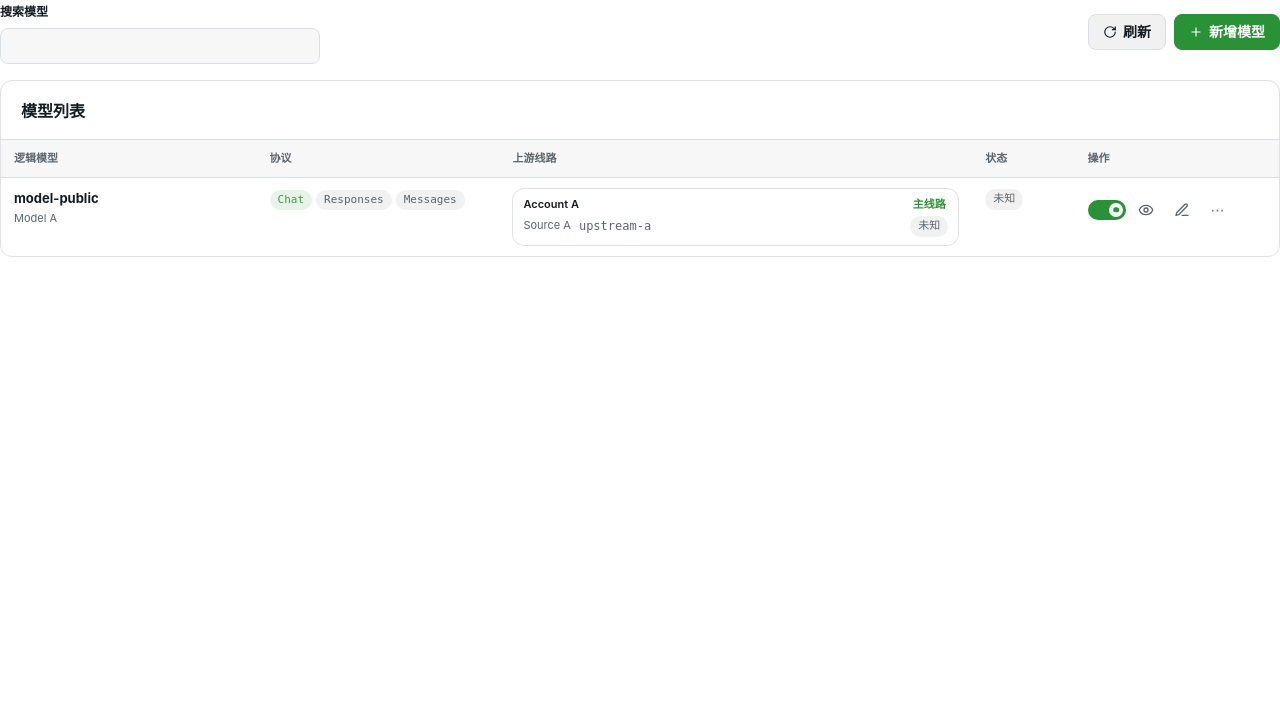
Test: production control-plane pages › retains the drawer draft on a failed save and permits retry
The image size is (1280, 720).
Click the button named "编辑 model-public".
click(1182, 210)  # box top-left (1166, 194), bottom-right (1198, 226)
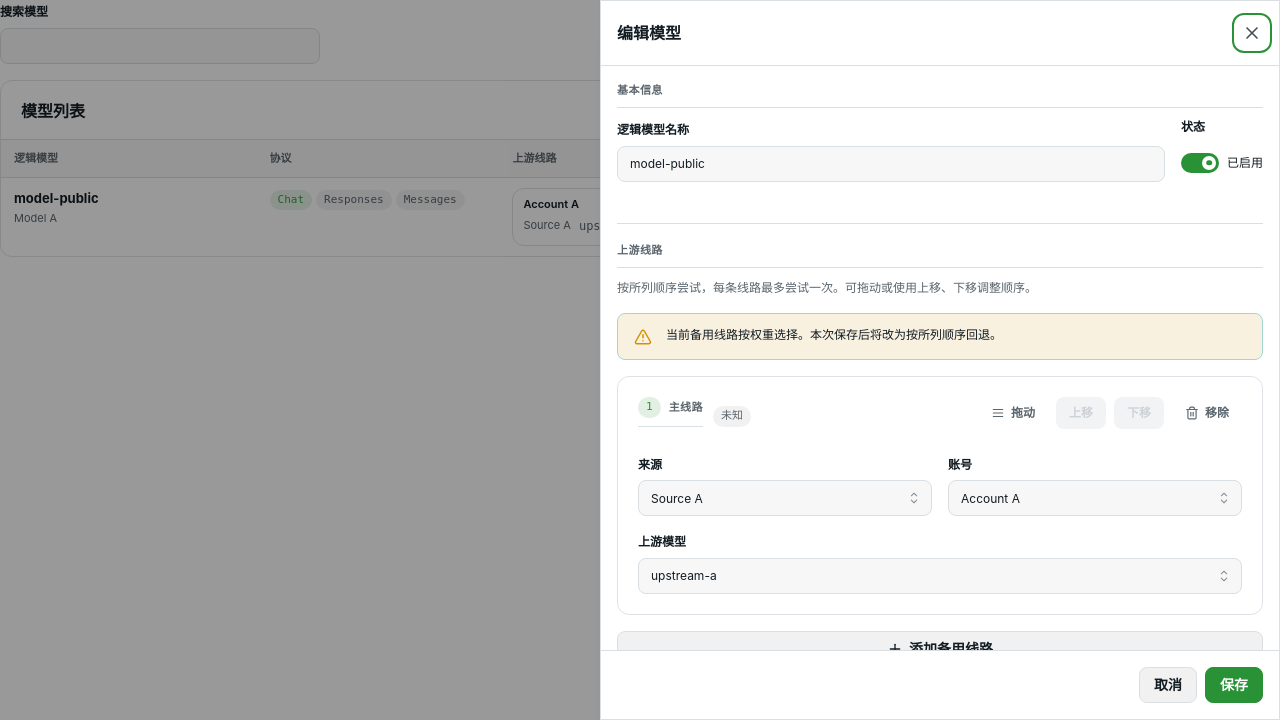
Click the submit button.
click(1234, 685)  # box top-left (1205, 667), bottom-right (1263, 703)
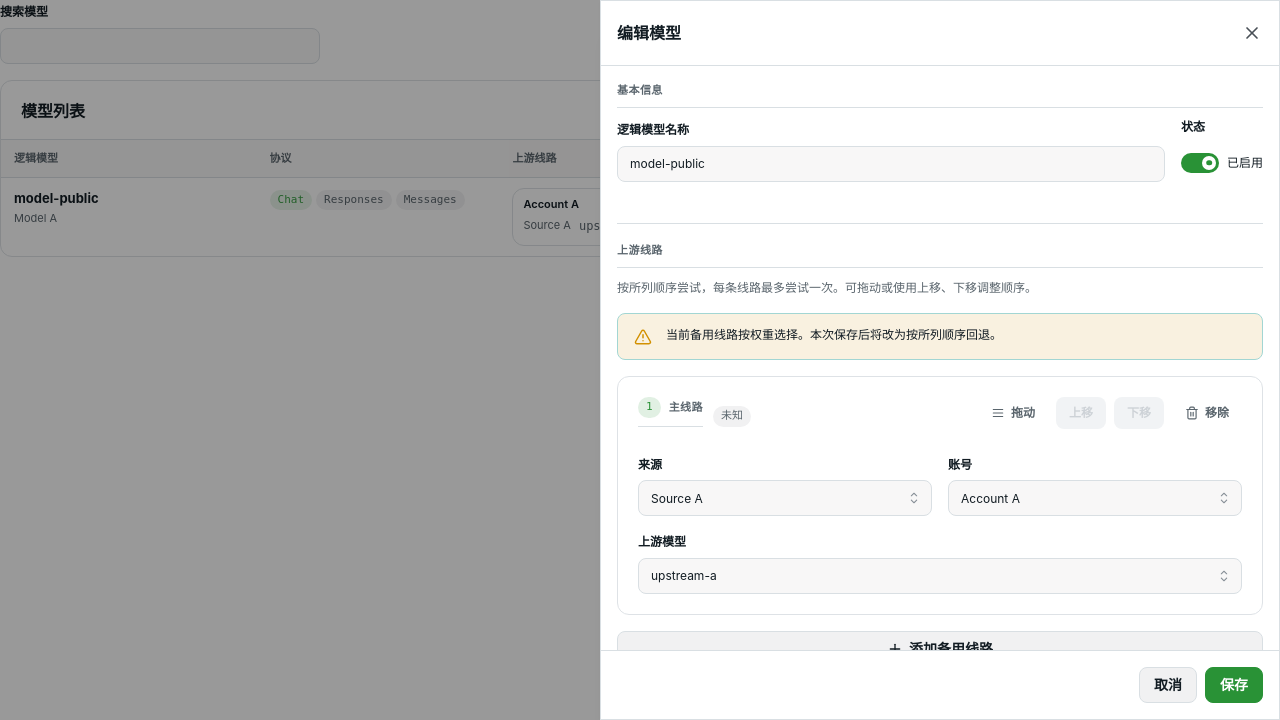
Check: the field labelled "逻辑模型名称" holds "model-public", box top-left (617, 146), bottom-right (1165, 182)
Click the submit button.
click(1234, 685)  # box top-left (1205, 667), bottom-right (1263, 703)
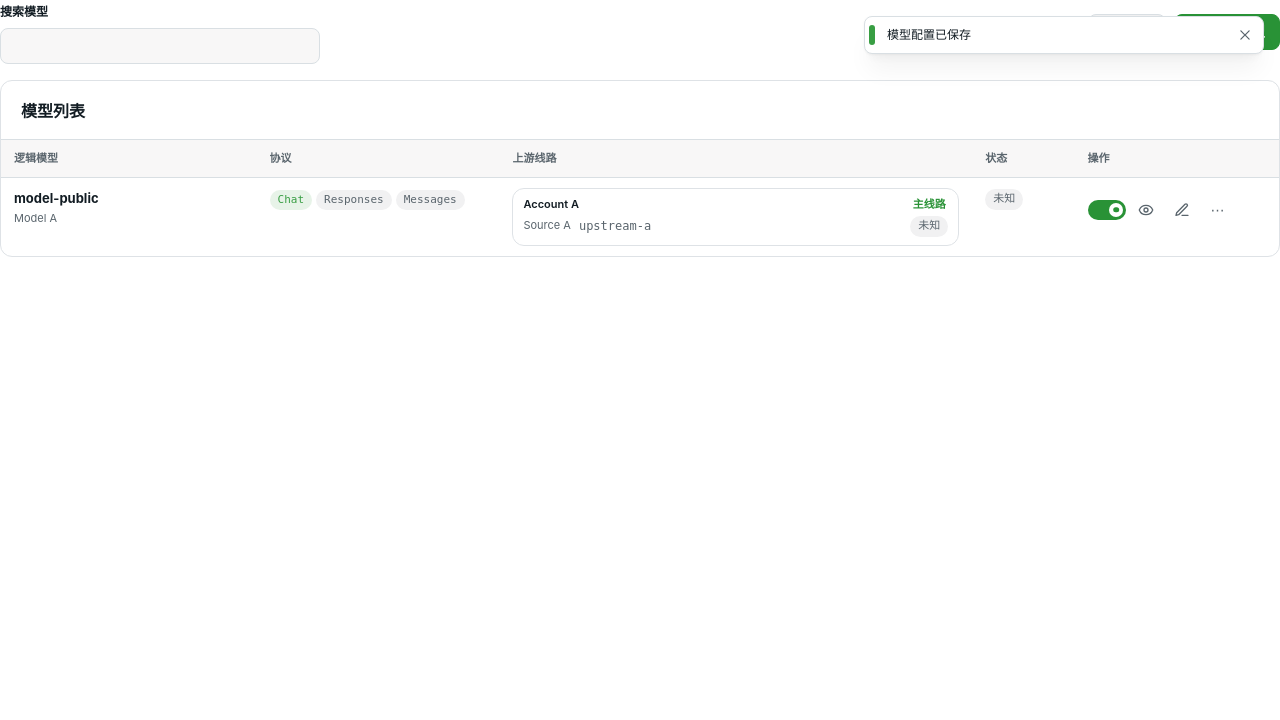
Check: the dialog is gone
Check: the number of messages is 1, box top-left (864, 16), bottom-right (1264, 54)
